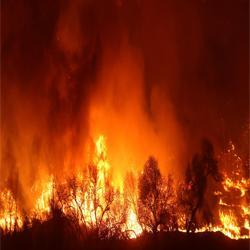fire: (219, 208, 247, 236), (96, 138, 104, 228), (37, 182, 55, 222), (126, 214, 148, 239)
